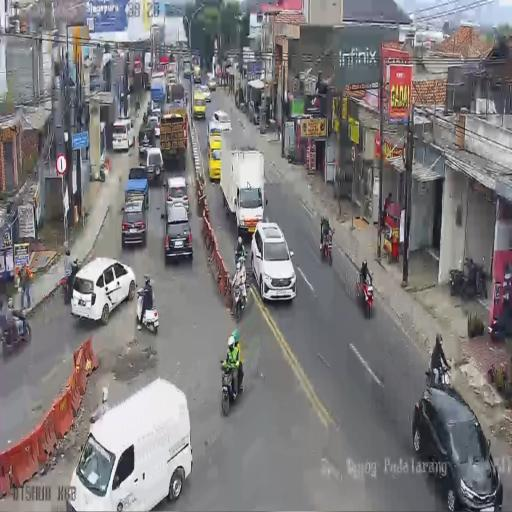car: (66, 379, 192, 510), (412, 380, 501, 509), (70, 256, 136, 325), (253, 220, 297, 301), (121, 196, 148, 248), (166, 175, 190, 218), (141, 147, 164, 183), (111, 118, 135, 152), (207, 136, 222, 181), (209, 108, 232, 134), (138, 124, 155, 154), (147, 100, 162, 125), (198, 83, 212, 102), (166, 72, 177, 88), (183, 67, 193, 81), (207, 72, 215, 83)
motorcycle: (220, 352, 243, 415), (134, 284, 158, 334), (356, 267, 374, 320), (426, 355, 450, 389), (232, 273, 247, 322), (320, 224, 334, 265), (241, 99, 250, 116), (276, 119, 282, 141)
truck: (221, 145, 263, 233), (159, 110, 187, 166), (168, 82, 186, 118), (150, 70, 167, 103), (140, 50, 152, 88), (193, 65, 201, 83)
